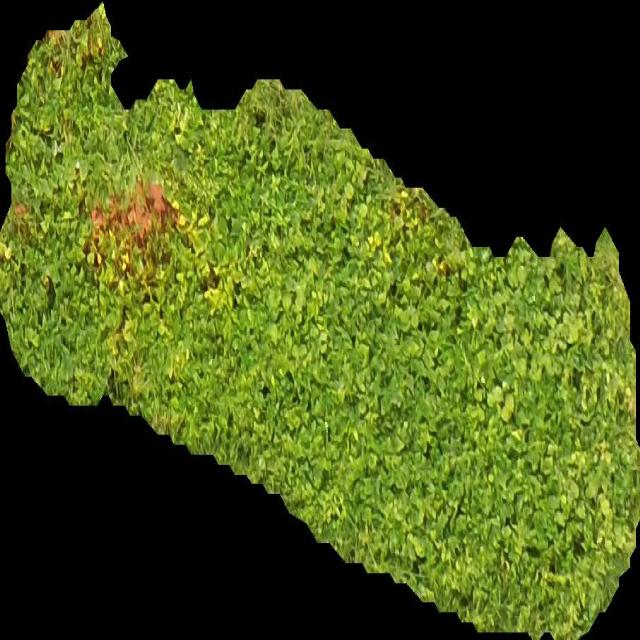Bean: (0, 1, 640, 640)
